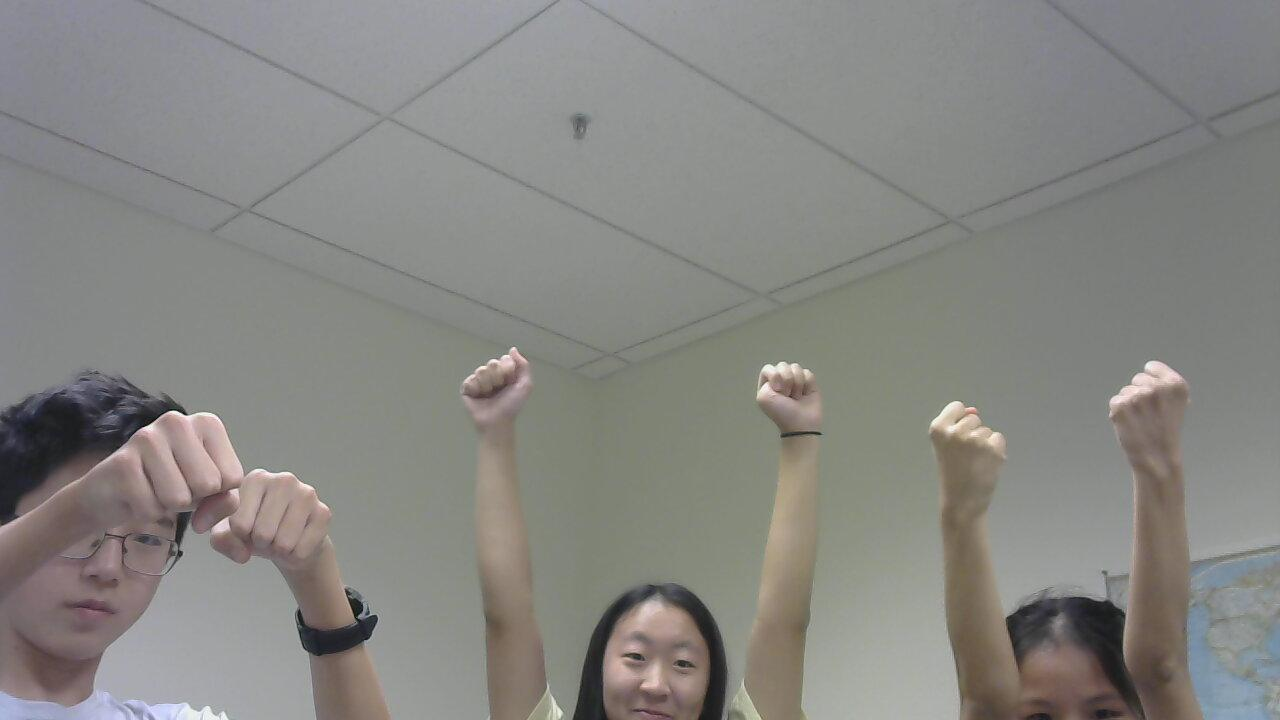fist: (908, 389, 1034, 551), (91, 402, 249, 531), (1081, 347, 1219, 494), (411, 347, 589, 445), (216, 457, 347, 578), (756, 344, 855, 463)
